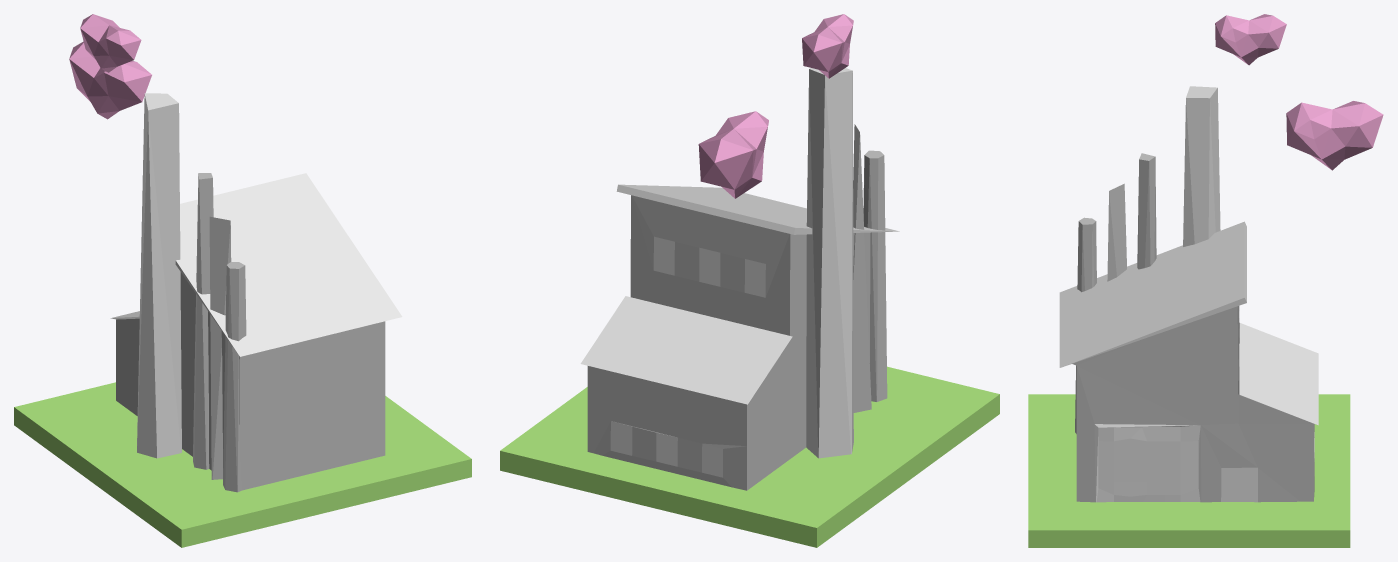
The model's file is building_factory.fbx.
3 views of the same model, side by side, from view 1: azimuth 30°, elevation 25°; view 2: azimuth 150°, elevation 25°; view 3: azimuth 270°, elevation 25° (orthographic). The views are drawn at different scales.
Parts seen in each view (by area): view 1: ground; view 2: ground; view 3: ground.
Part boxes in pixels (x1=…): ground: x1=14, y1=14, x2=471, y2=547; ground: x1=500, y1=14, x2=999, y2=547; ground: x1=1028, y1=14, x2=1383, y2=547.
Bounding box in the file's own units: 50 × 71.14 × 55.16.
